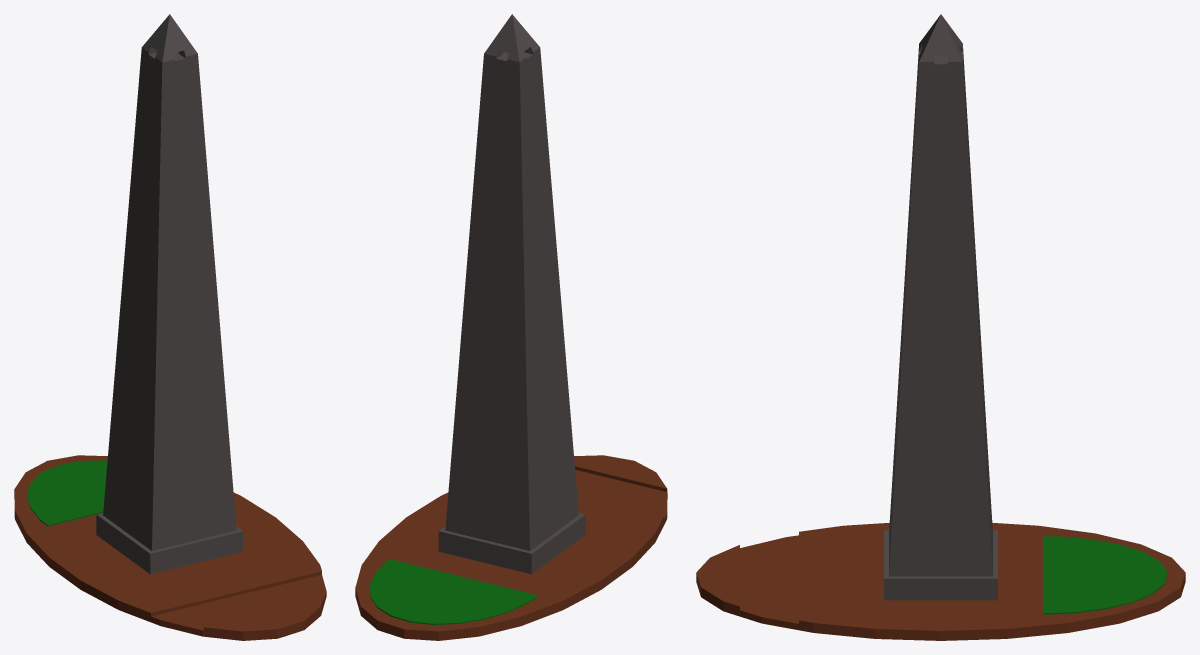
The model's file is M_Obelisco.fbx.
3 views of the same model, side by side, from view 1: azimuth 30°, elevation 25°; view 2: azimuth 150°, elevation 25°; view 3: azimuth 270°, elevation 25° (orthographic). The views are drawn at different scales.
Parts seen in each view (by area): view 1: M_Obelisco; view 2: M_Obelisco; view 3: M_Obelisco.
Part boxes in pixels (x1,y1,x2,y2): M_Obelisco: (14,14,326,640); M_Obelisco: (355,14,667,640); M_Obelisco: (696,14,1185,640).
Size of the model in its own units: 4.38 by 10.69 by 8.29.
